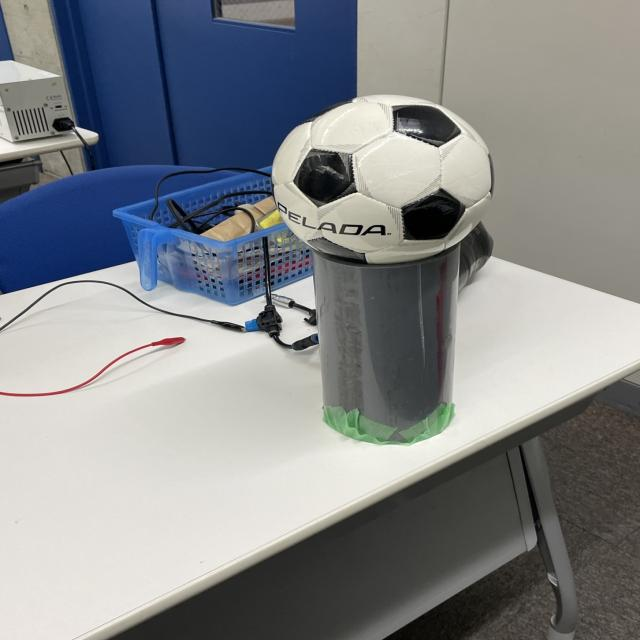ball: (272, 93, 497, 264)
